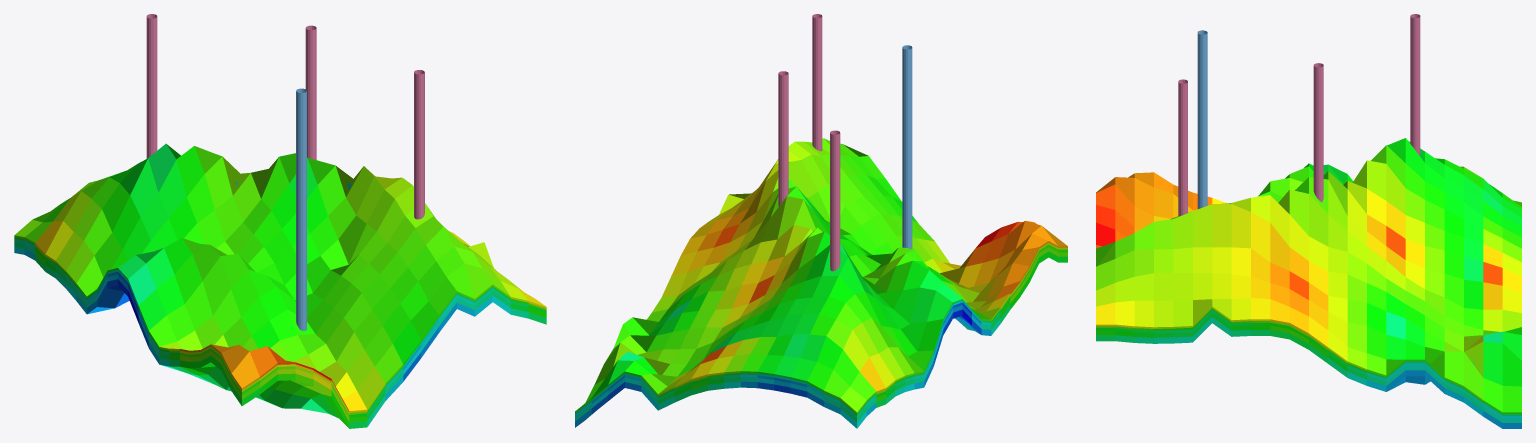
The model's file is porosity-het-v1.glb.
The picture shows the model from 3 angles, left to right: view 1: azimuth 30°, elevation 25°; view 2: azimuth 150°, elevation 25°; view 3: azimuth 270°, elevation 25°; orthographic projection. The views are drawn at different scales.
Visible parts, largest first — view 1: reservoir, INJ, PROD-2, PROD-3, PROD-1; view 2: reservoir, INJ, PROD-2, PROD-3, PROD-1; view 3: reservoir, INJ, PROD-2, PROD-1, PROD-3.
Boxes of the visible parts, x1,y1,x2,y2 form: reservoir: (14,143,546,428); INJ: (296,88,306,330); PROD-2: (146,14,157,158); PROD-3: (414,70,424,219); PROD-1: (305,25,316,159); reservoir: (575,138,1067,428); INJ: (902,45,912,248); PROD-2: (830,130,840,271); PROD-3: (812,14,822,151); PROD-1: (778,71,788,206); reservoir: (1096,138,1521,428); INJ: (1197,30,1207,208); PROD-2: (1410,14,1420,155); PROD-1: (1313,63,1323,201); PROD-3: (1178,79,1187,216).
Bounding box in the file's own units: 0.3864 × 0.4023 × 0.5.
Materials: 3 (1 with a texture image).
